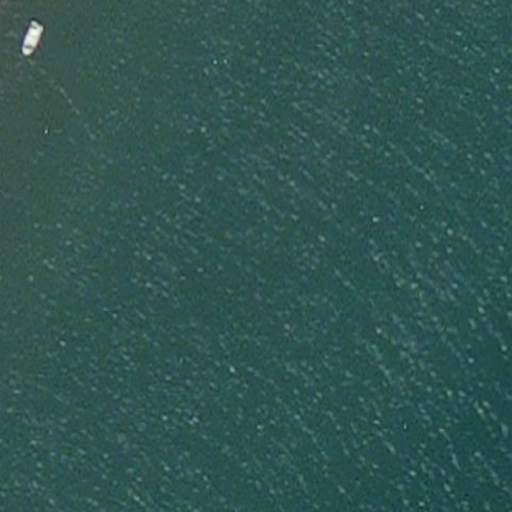ship: (20, 17, 46, 62)
